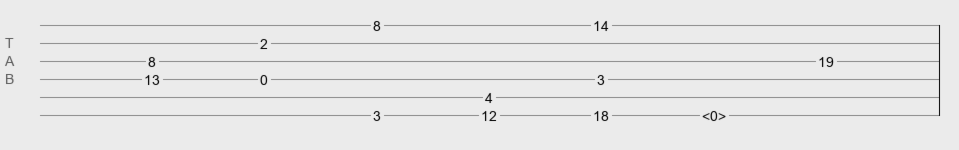0: (260, 72, 268, 82)
12: (481, 108, 497, 118)
13: (144, 72, 160, 82)
14: (593, 18, 609, 28)
18: (593, 108, 609, 118)
19: (818, 54, 834, 64)
2: (260, 36, 268, 46)
3: (373, 108, 381, 118), (597, 72, 605, 82)
4: (485, 90, 493, 100)
8: (148, 54, 156, 64), (373, 18, 381, 28)
harmonic: (702, 108, 726, 118)
